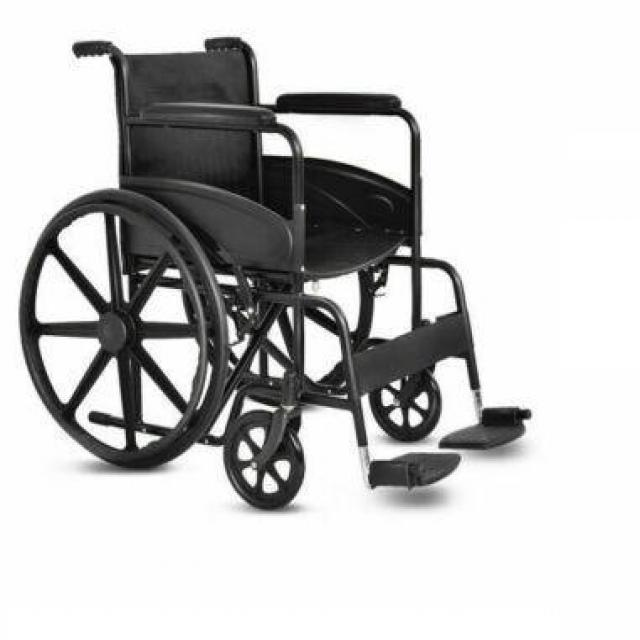wheelchair: (12, 26, 553, 516)
